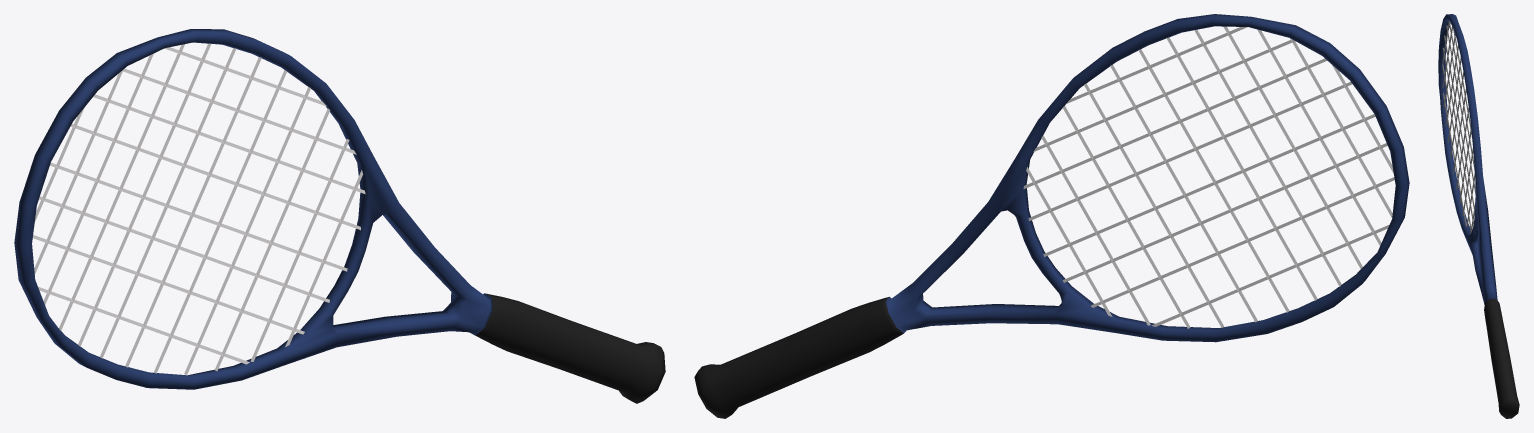
Rendered from racket.fbx.
3 renders of one model, left to right at view 1: azimuth 30°, elevation 25°; view 2: azimuth 150°, elevation 25°; view 3: azimuth 270°, elevation 25°, orthographic. The views are drawn at different scales.
Visible parts, largest first — view 1: Tennis_Racket_Blue; view 2: Tennis_Racket_Blue; view 3: Tennis_Racket_Blue.
Boxes of the visible parts, box(x1,y1,x2,y2) form: Tennis_Racket_Blue: box(14, 29, 665, 403); Tennis_Racket_Blue: box(694, 14, 1409, 418); Tennis_Racket_Blue: box(1438, 14, 1519, 418).
Bounding box in the file's own units: 59.73 × 42.23 × 11.79.
1 material, 1 textured.
